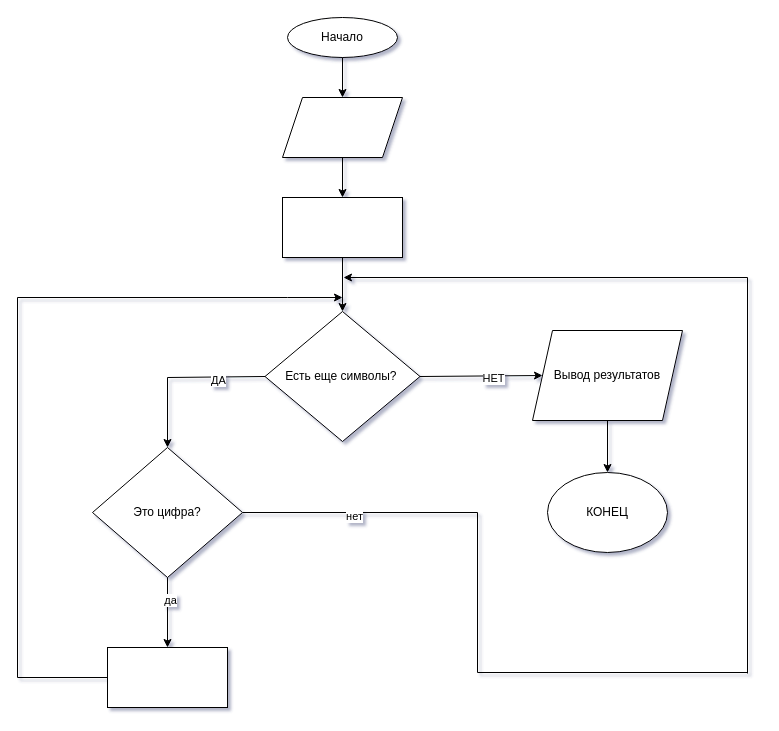
This 779x731 diagram has some shape labels left out. Here are the shapes that lost their labels. From the top down, the centre of each, then its label:
At (342,127): "Ввод строки".
At (342,227): "Сумма = 0".
At (167,677): "Сумма + Цифра".
